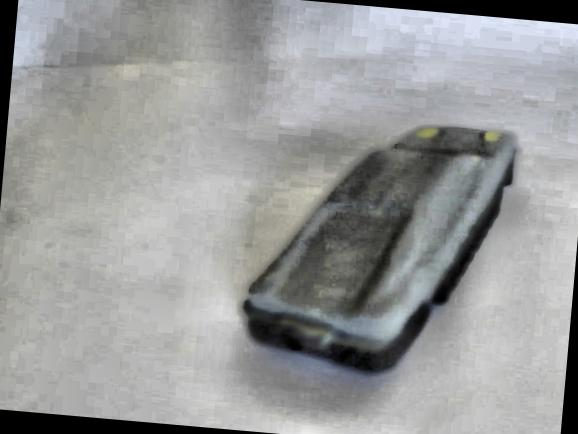normal_car: (222, 97, 533, 395)
